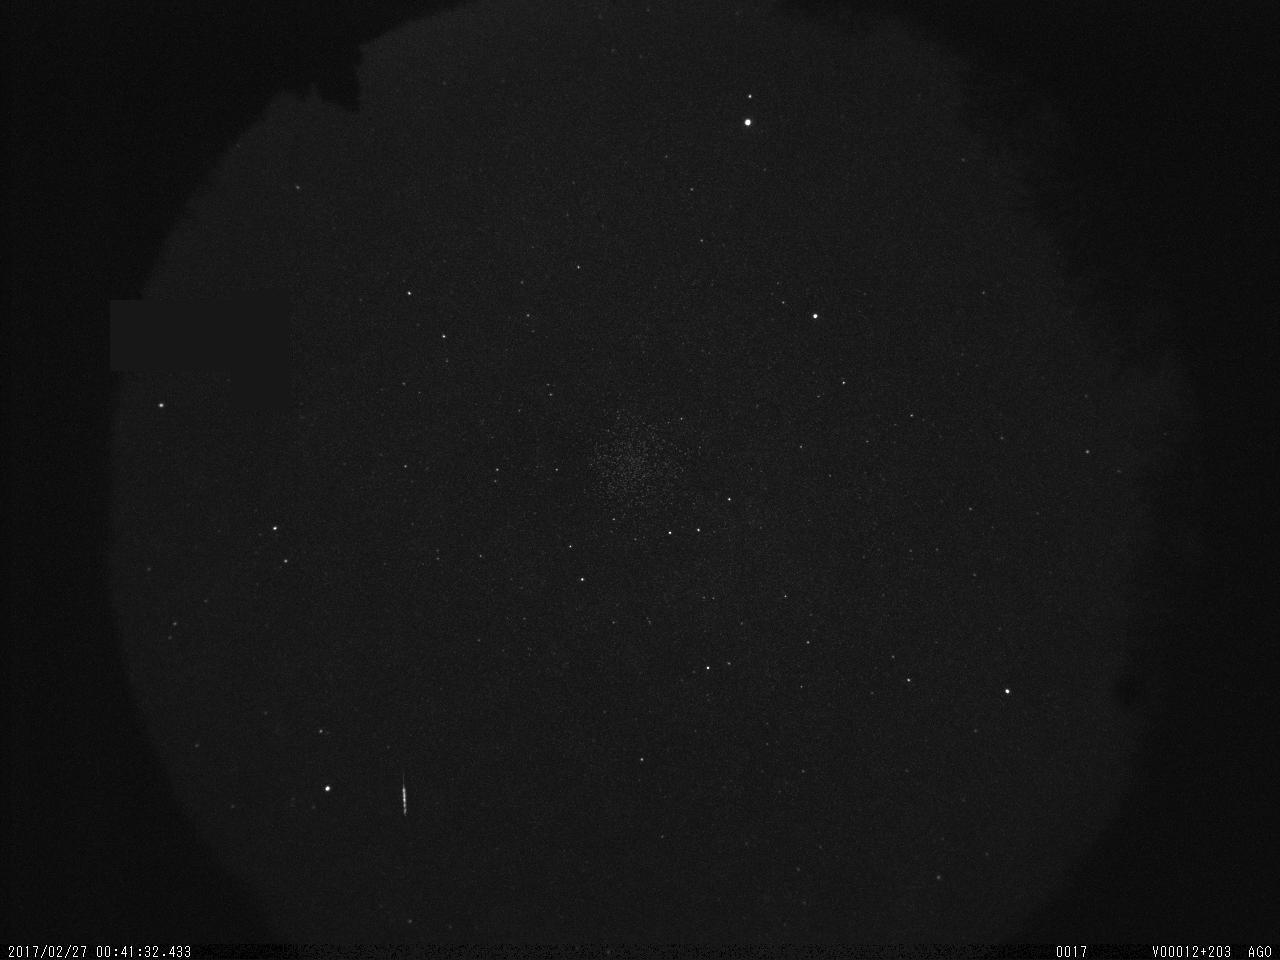meteor: (391, 760, 419, 825)
